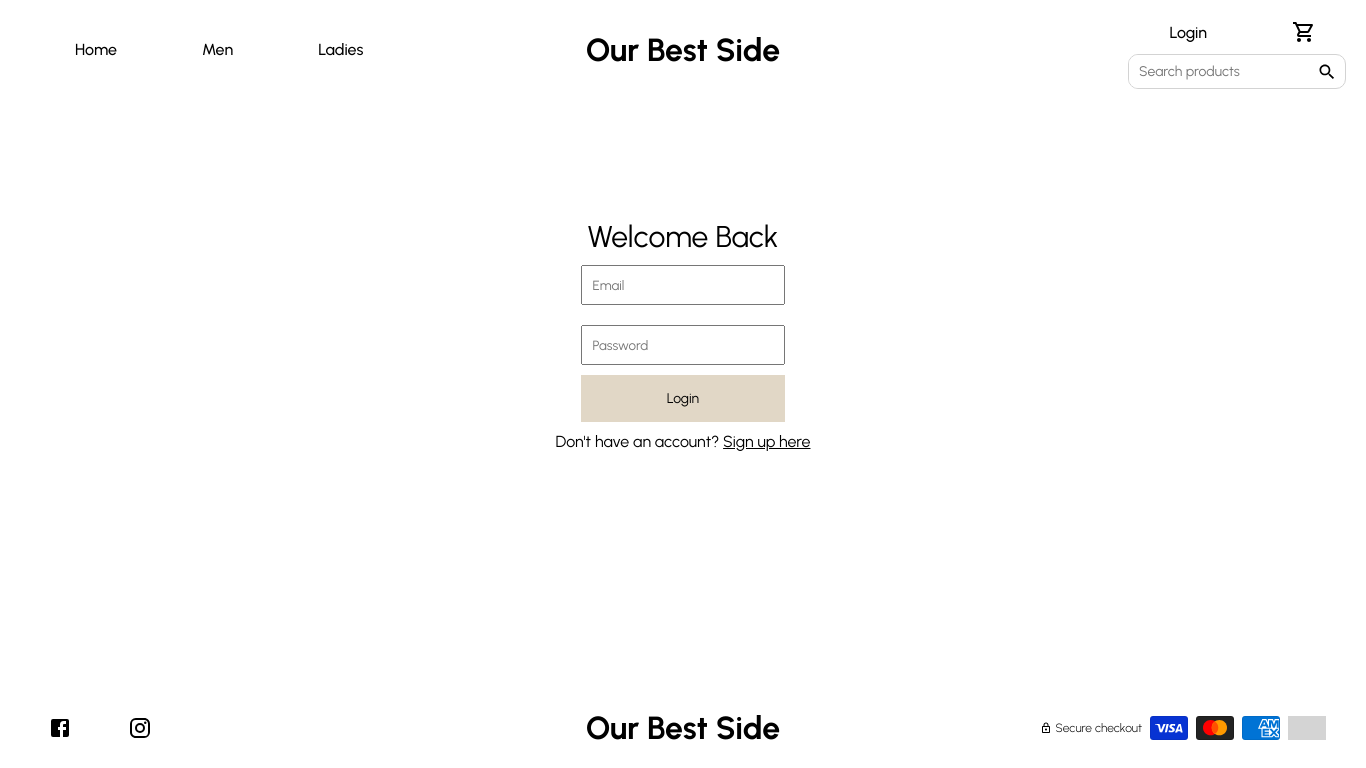
Test: Login › doesn't crash when the server can't be reached
In the field with placeholder "Email": (683, 285) [580,265,785,305], type "a@b.com"
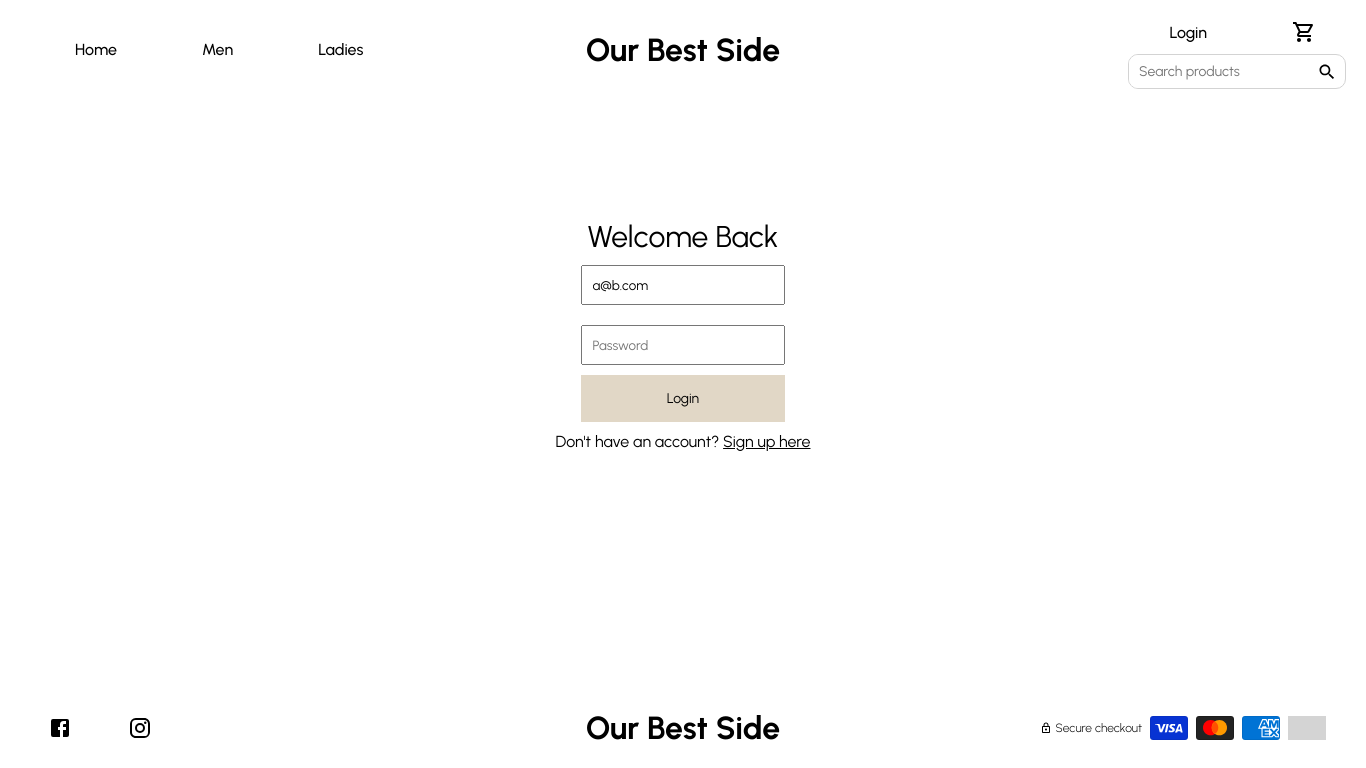
In the password field with placeholder "Password": (683, 345) [580,325,785,365], type "password123"
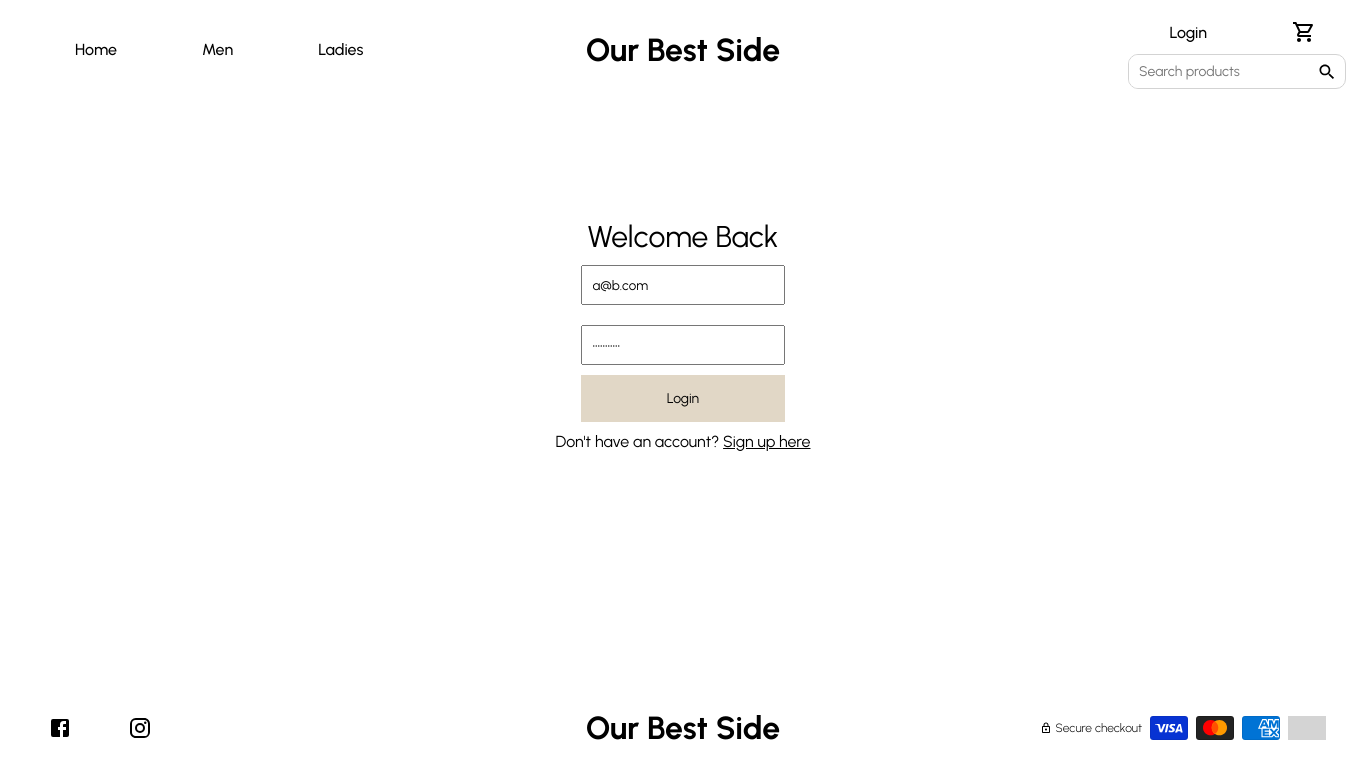
Click the button "Login": (683, 398) [580,375,785,422]
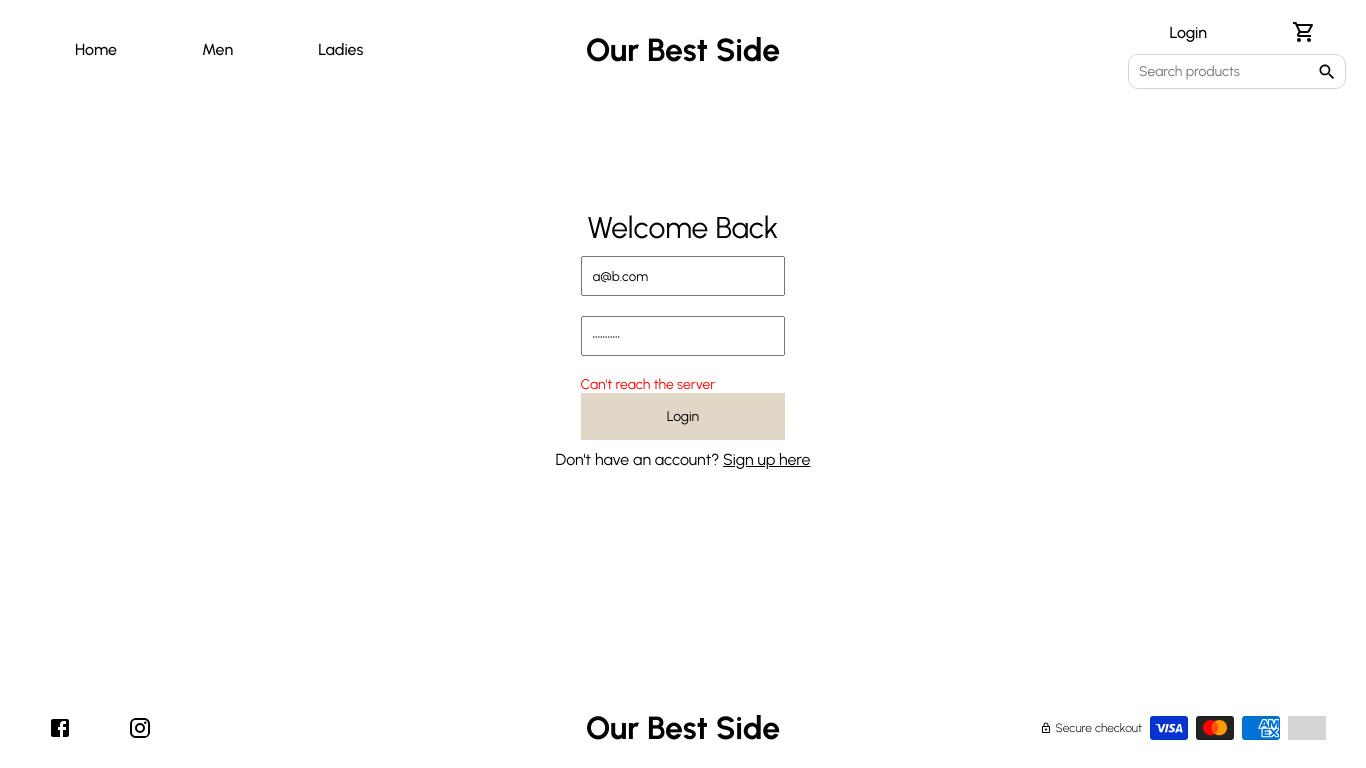
Expected: the message reads "Can't reach the server", [580,376,715,393]
